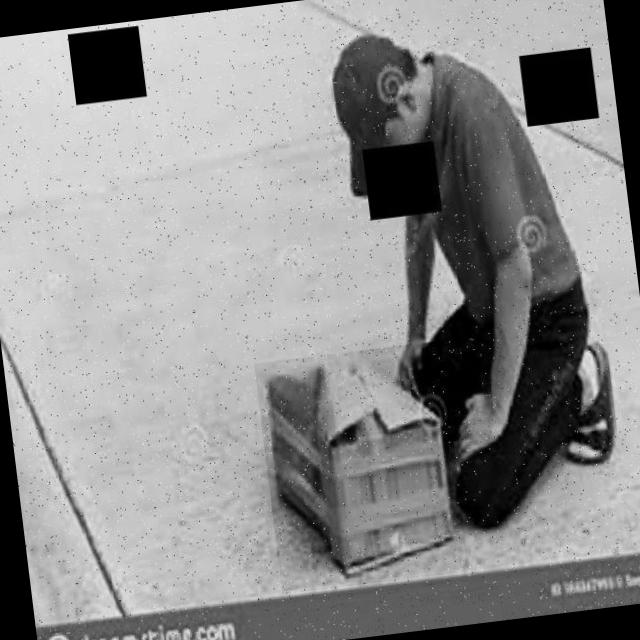box: (254, 340, 469, 594)
